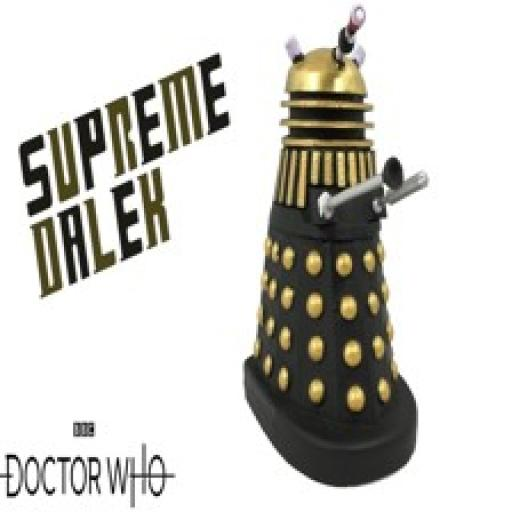dalek: (242, 7, 424, 486)
